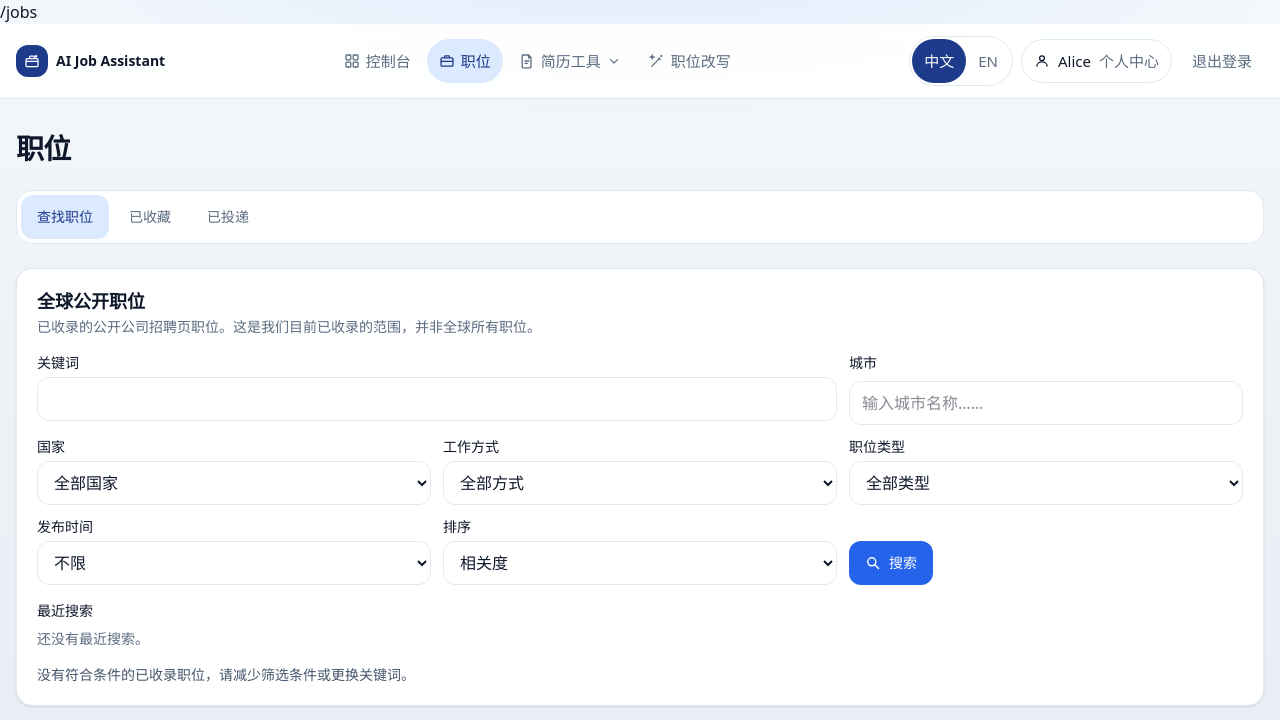
it: public landing and returnTo routing › a signed-in visitor reaches the Dashboard through the nav bar, at /dashboard
Expected: the heading "全球公开职位" is shown, [37,289,145,313]
Click the link "控制台" at (377, 61), box [344,51,411,71]
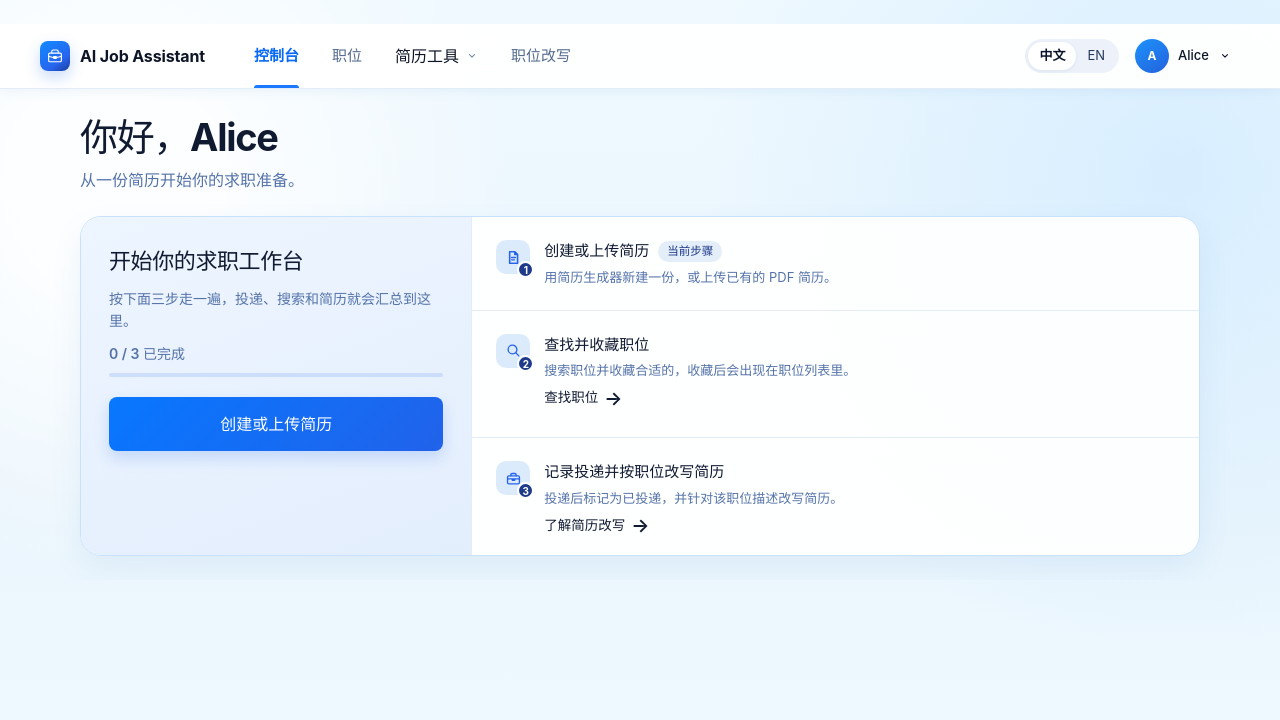
Now the heading "你好，Alice" is shown, box [80,117,278,158]
Now the text "关键词" is gone
